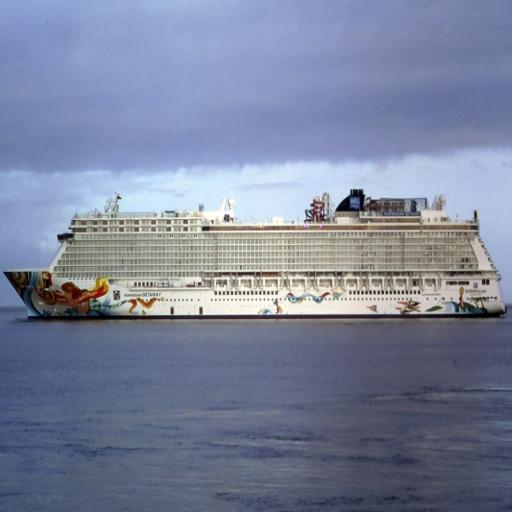cruises: (2, 186, 509, 325)
